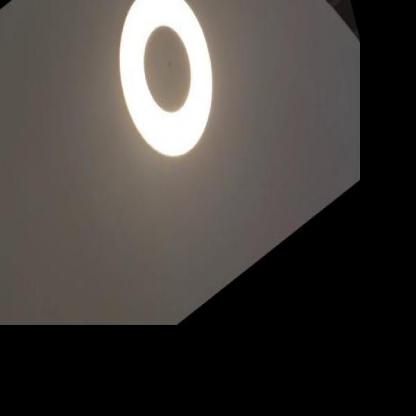light_on: (93, 0, 245, 209)
